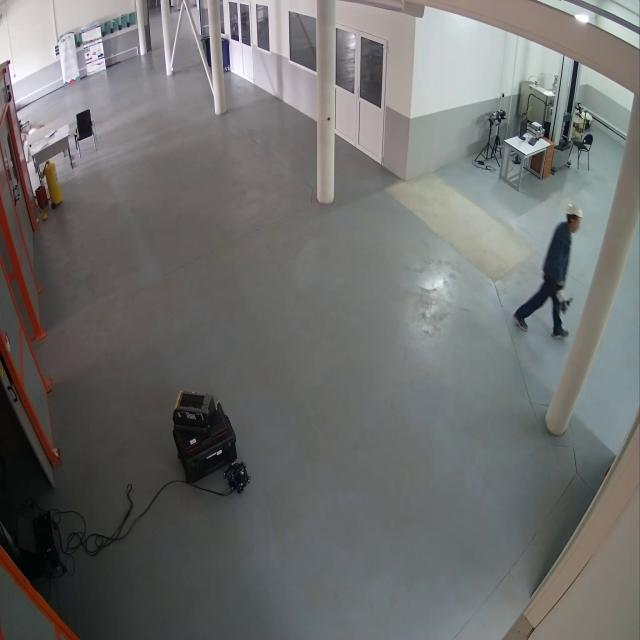Hardhat: (566, 202, 584, 218)
Person: (511, 198, 584, 340)
